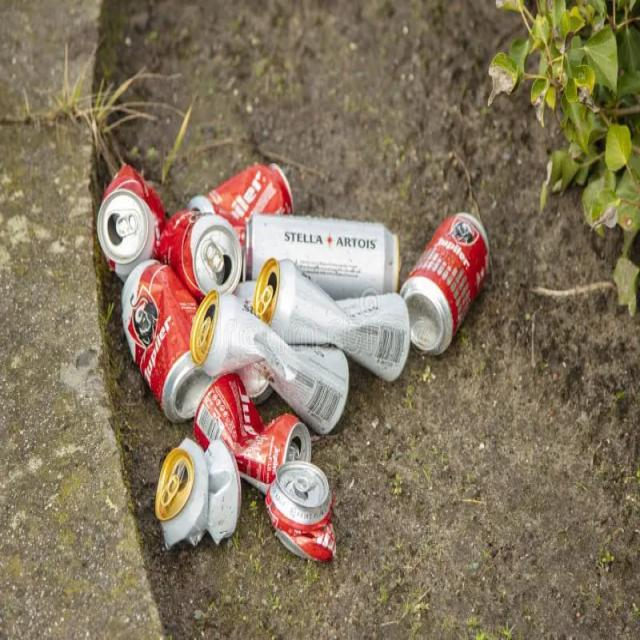can: (84, 103, 500, 589)
